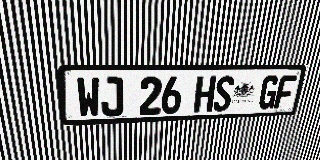2: (140, 76, 162, 115)
6: (161, 76, 183, 114)
F: (274, 75, 297, 109)
G: (257, 75, 280, 110)
H: (193, 76, 216, 112)
J: (100, 77, 123, 117)
S: (212, 76, 235, 112)
W: (76, 77, 101, 118)
